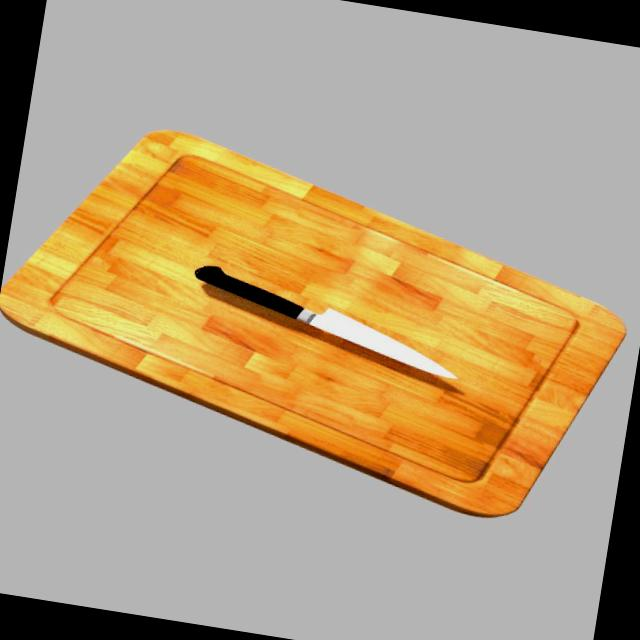knife: (190, 262, 310, 320)
